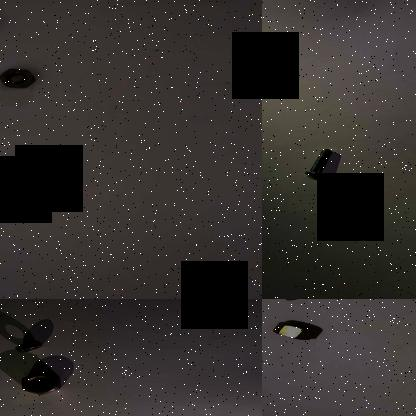Bolts: (300, 146, 334, 180)
NUTS: (262, 316, 338, 344), (8, 369, 76, 399), (0, 59, 42, 93), (9, 334, 56, 356)
